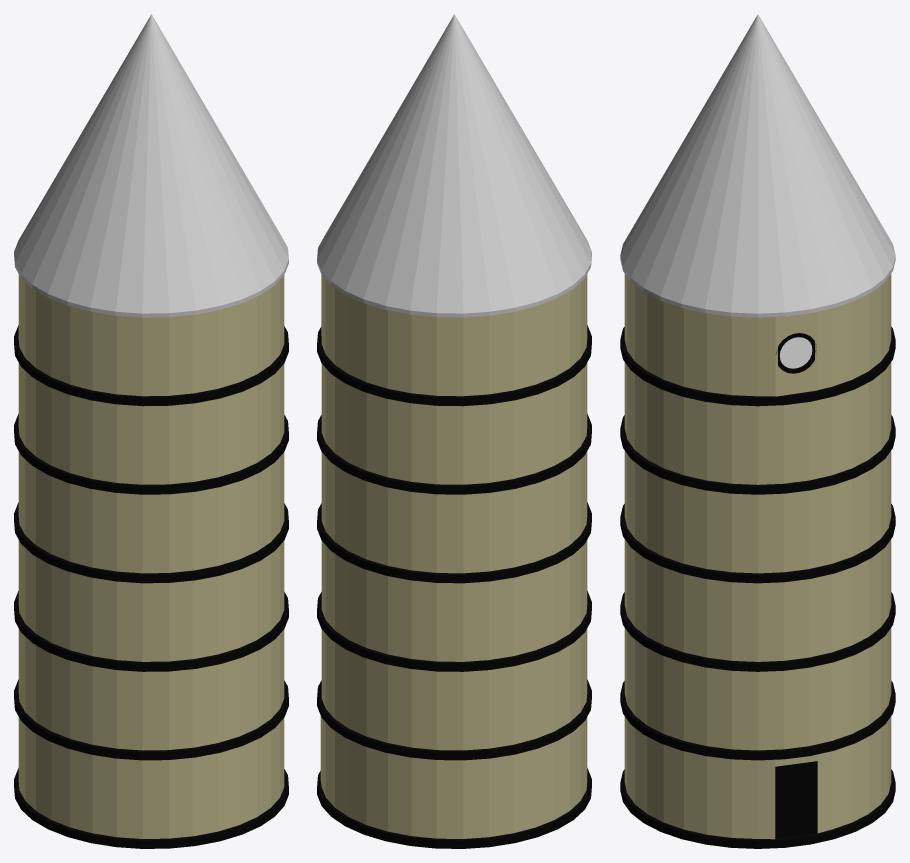
File: Silo 2.fbx
3 views of the same model, side by side, from view 1: azimuth 30°, elevation 25°; view 2: azimuth 150°, elevation 25°; view 3: azimuth 270°, elevation 25° (orthographic).
Parts seen in each view (by area): view 1: building_001; view 2: building_001; view 3: building_001.
Part boxes in pixels (x1,y1,x2,y2): building_001: (14,14,288,848); building_001: (317,14,591,848); building_001: (620,14,895,848).
Bounding box in the file's own units: 620 × 1930 × 620.
